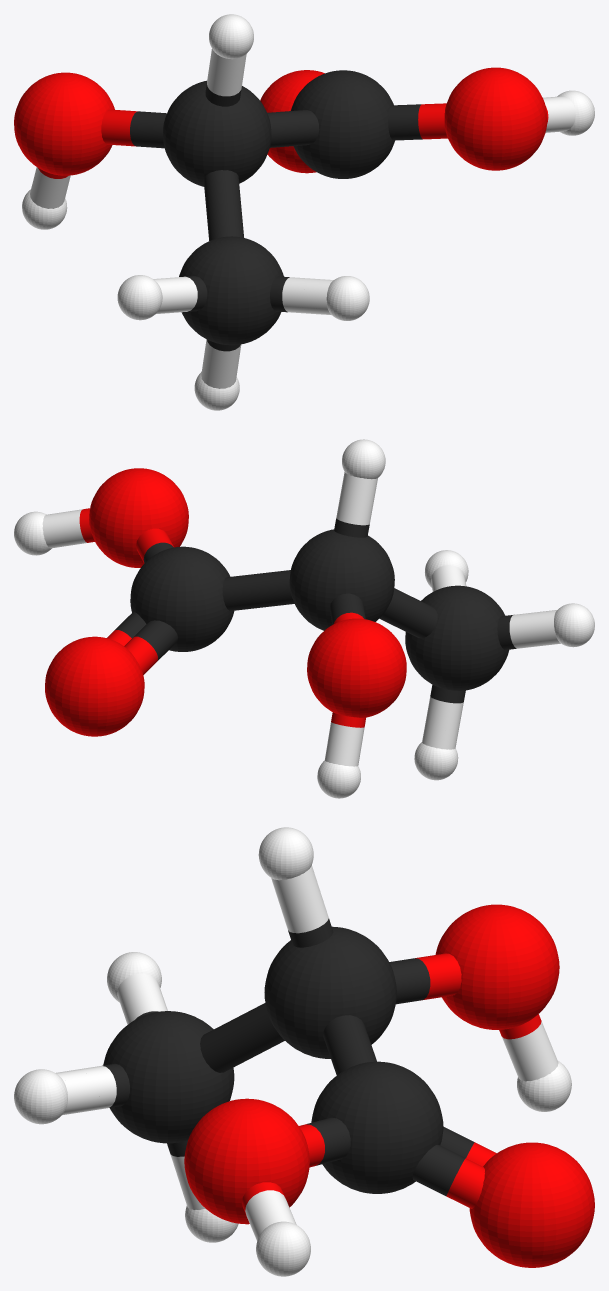
Rendered from acLatico.obj.
3 views of the same model, one above another, from view 1: azimuth 30°, elevation 25°; view 2: azimuth 150°, elevation 25°; view 3: azimuth 270°, elevation 25° (orthographic). The views are drawn at different scales.
Visible parts, largest first — view 1: acLatico; view 2: acLatico; view 3: acLatico.
Part boxes in pixels (x1,y1,x2,y2): acLatico: (14,14,594,410); acLatico: (14,439,594,798); acLatico: (14,827,594,1276).
Bounding box in the file's own units: 5.22 × 3.36 × 4.05.
